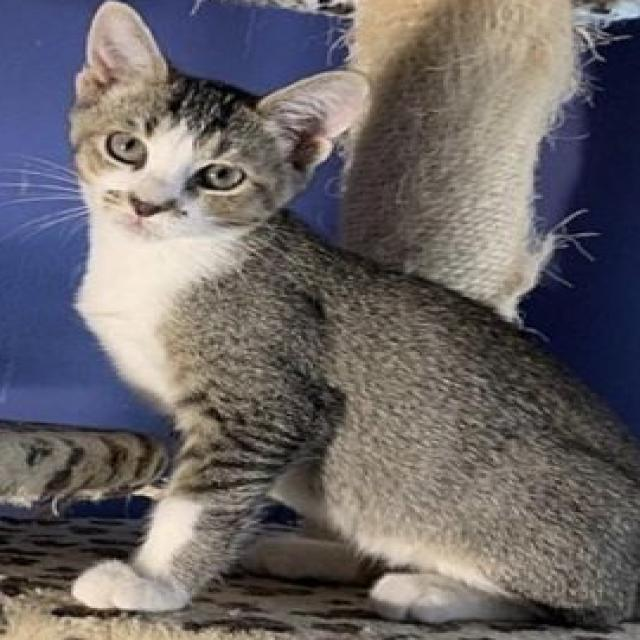Abyssinian: (52, 0, 640, 631)
